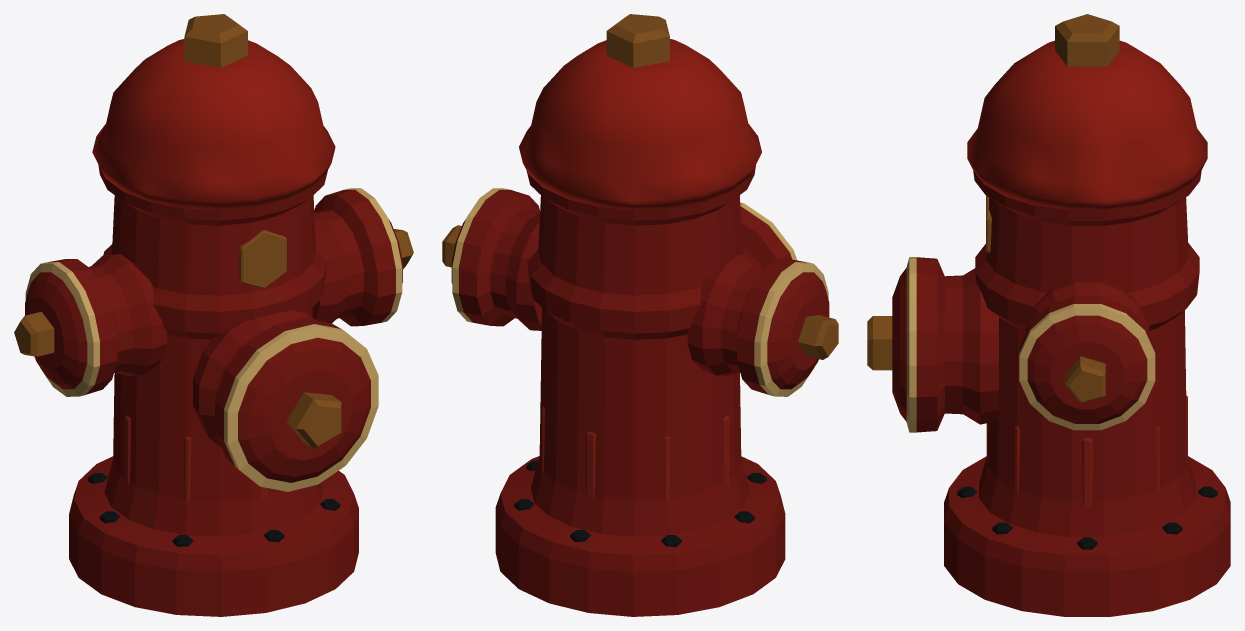
The model's file is SM_VillageStreetHydrant.fbx.
The picture shows the model from 3 angles, left to right: view 1: azimuth 30°, elevation 25°; view 2: azimuth 150°, elevation 25°; view 3: azimuth 270°, elevation 25°; orthographic projection.
Visible parts, largest first — view 1: SM_VillageStreetHydrant; view 2: SM_VillageStreetHydrant; view 3: SM_VillageStreetHydrant.
Boxes of the visible parts, x1=… form: SM_VillageStreetHydrant: x1=14, y1=14, x2=413, y2=616; SM_VillageStreetHydrant: x1=442, y1=14, x2=838, y2=616; SM_VillageStreetHydrant: x1=867, y1=14, x2=1230, y2=616.
Size of what is drawn, in the model's own units: 69.8 by 57.62 by 93.
